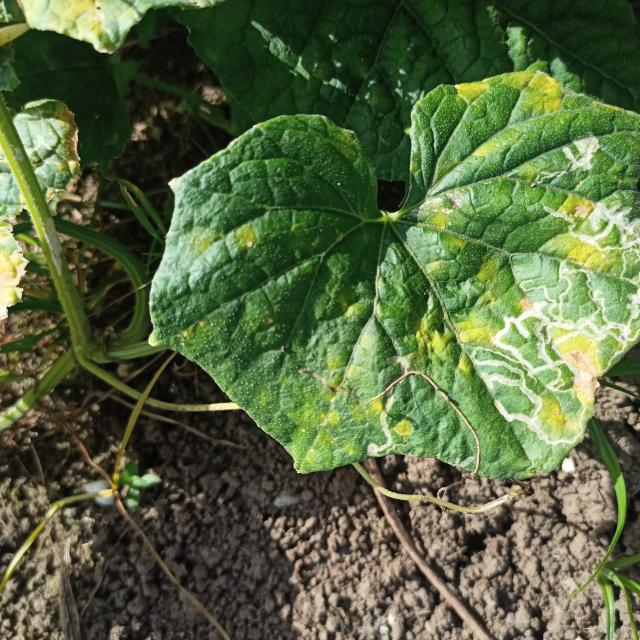disease_cucumber: (406, 172, 640, 452), (285, 330, 422, 464), (450, 69, 567, 157), (181, 216, 267, 263)
